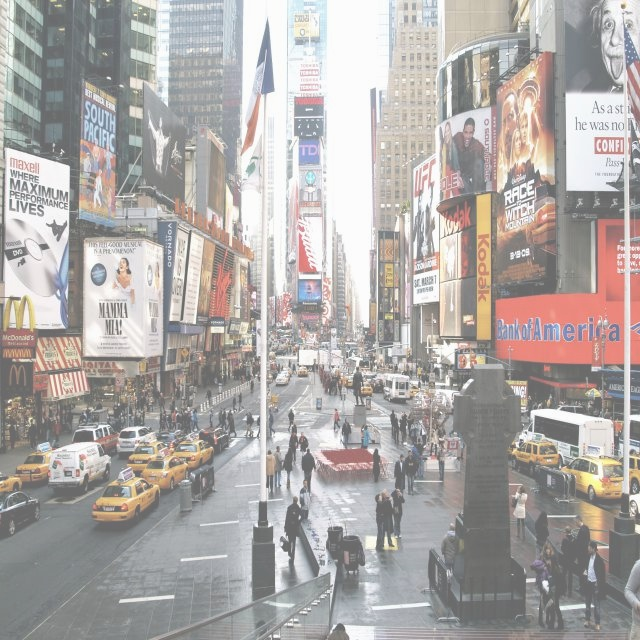pessoa: (580, 0, 640, 95), (500, 86, 536, 178), (451, 116, 493, 193), (578, 538, 608, 632), (79, 137, 114, 215), (211, 348, 261, 386), (146, 111, 173, 180), (443, 120, 465, 200), (536, 541, 556, 628), (109, 256, 138, 313), (558, 524, 579, 600), (283, 495, 305, 567), (422, 182, 438, 274), (546, 554, 564, 630), (574, 515, 590, 593), (624, 558, 639, 639), (374, 493, 394, 552), (509, 484, 528, 540), (440, 522, 460, 574), (412, 189, 424, 275), (380, 489, 395, 548), (390, 486, 406, 540), (301, 447, 317, 497), (534, 510, 550, 560), (438, 125, 447, 204), (366, 347, 394, 372), (298, 479, 312, 526), (404, 449, 417, 496), (394, 454, 407, 498), (281, 446, 294, 489), (269, 336, 294, 358), (273, 445, 286, 487), (266, 449, 278, 494), (151, 261, 162, 307), (314, 336, 351, 349), (352, 366, 364, 406), (46, 218, 66, 240), (436, 443, 447, 482), (326, 622, 350, 638), (372, 447, 382, 485), (27, 418, 38, 451), (411, 440, 420, 480), (341, 418, 352, 450), (428, 422, 438, 457), (288, 430, 298, 464), (416, 438, 424, 478), (362, 424, 373, 452), (398, 412, 407, 444), (52, 416, 62, 444), (298, 431, 309, 456), (202, 274, 210, 308), (227, 412, 237, 438), (244, 412, 254, 438), (419, 416, 427, 448), (43, 414, 52, 442), (270, 359, 284, 377), (332, 408, 343, 430), (448, 418, 459, 440), (8, 420, 16, 450), (392, 414, 400, 444), (410, 420, 420, 444), (382, 318, 392, 341), (268, 408, 276, 436), (66, 408, 74, 435), (437, 423, 446, 446), (192, 408, 200, 432), (220, 408, 228, 432), (406, 410, 413, 437), (180, 409, 188, 432), (184, 412, 192, 435), (134, 396, 142, 418), (157, 392, 165, 414), (215, 407, 223, 428), (248, 412, 255, 436), (390, 409, 396, 436), (587, 404, 595, 424), (112, 401, 120, 419), (288, 408, 294, 432), (238, 278, 246, 296), (171, 410, 178, 430), (226, 409, 232, 432), (460, 438, 466, 461), (115, 402, 122, 421), (158, 412, 164, 434), (208, 408, 214, 430), (399, 364, 409, 377), (86, 417, 92, 438), (167, 411, 173, 432), (331, 378, 338, 396), (128, 402, 133, 427), (120, 400, 126, 420), (154, 388, 160, 408), (162, 410, 168, 430), (176, 410, 182, 430), (232, 393, 238, 413), (238, 392, 244, 412), (256, 414, 261, 438), (361, 424, 366, 448), (190, 407, 195, 430), (95, 400, 103, 414), (139, 394, 145, 412), (148, 394, 154, 412), (206, 387, 212, 405), (79, 411, 87, 424), (106, 408, 112, 425), (192, 377, 198, 394), (574, 460, 584, 470), (291, 420, 298, 434), (85, 406, 91, 422), (121, 402, 127, 418), (603, 408, 611, 420), (20, 412, 28, 424), (145, 393, 150, 412), (172, 378, 177, 397), (183, 410, 188, 428), (328, 379, 333, 396), (138, 413, 144, 427), (188, 388, 192, 408), (417, 366, 422, 382), (528, 402, 532, 422), (134, 413, 140, 426), (172, 409, 178, 422), (572, 401, 578, 414), (170, 396, 176, 408), (292, 362, 298, 374), (581, 402, 587, 414), (206, 370, 211, 384), (545, 399, 552, 409), (176, 384, 180, 401), (154, 385, 158, 401), (250, 378, 254, 394), (338, 381, 342, 397), (82, 410, 88, 420), (336, 372, 342, 382), (129, 379, 135, 389), (456, 382, 462, 392), (202, 374, 206, 388), (422, 372, 426, 386), (90, 414, 96, 423), (142, 408, 146, 421), (424, 373, 428, 386), (426, 436, 431, 446), (77, 419, 83, 427), (138, 409, 142, 421), (144, 388, 148, 400), (290, 358, 294, 370), (291, 363, 295, 375), (312, 362, 316, 374), (409, 368, 413, 380), (422, 364, 426, 376), (402, 410, 408, 418), (533, 402, 539, 410), (539, 402, 545, 410), (549, 394, 553, 406), (558, 400, 566, 406), (522, 444, 528, 452), (314, 363, 318, 374), (421, 372, 424, 386), (533, 402, 539, 409), (12, 402, 18, 409), (88, 412, 92, 422), (152, 386, 156, 396), (288, 360, 292, 370), (330, 374, 334, 384), (392, 364, 396, 374), (528, 396, 532, 406), (596, 400, 600, 410), (395, 363, 398, 376), (426, 373, 429, 386), (589, 411, 595, 417), (418, 379, 421, 390), (95, 414, 99, 422), (179, 410, 183, 418), (598, 411, 602, 418), (537, 404, 542, 409), (91, 406, 95, 412), (320, 364, 323, 372), (334, 374, 337, 381), (578, 401, 582, 406), (416, 366, 418, 376), (520, 413, 526, 416), (610, 416, 613, 422), (82, 420, 86, 424), (187, 407, 190, 412), (322, 364, 324, 371), (144, 406, 146, 411), (10, 410, 12, 414), (319, 363, 321, 366), (141, 410, 143, 413), (334, 366, 336, 368)
